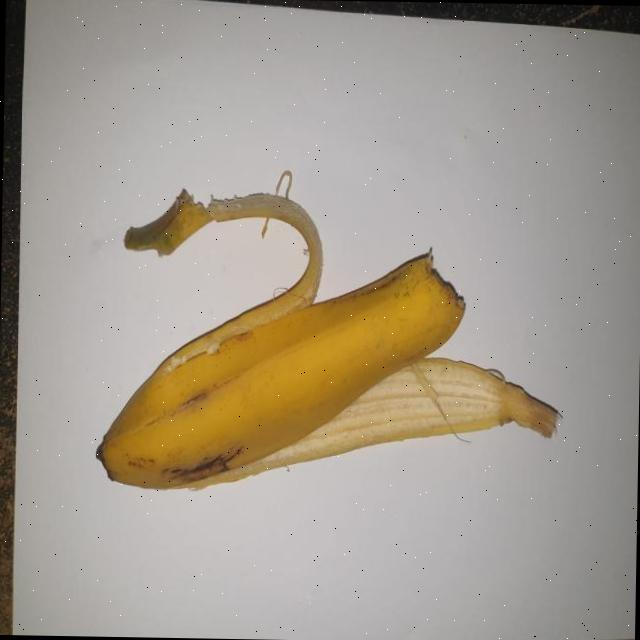banana-peel: (94, 178, 564, 497)
